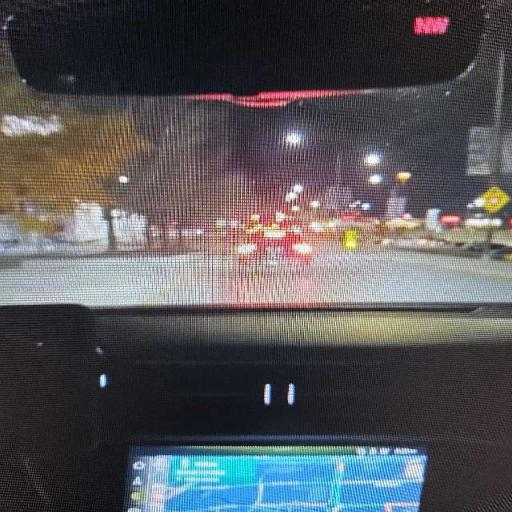car: (235, 229, 313, 264)
lane: (0, 245, 511, 306)
